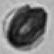correct: (2, 2, 52, 52)
